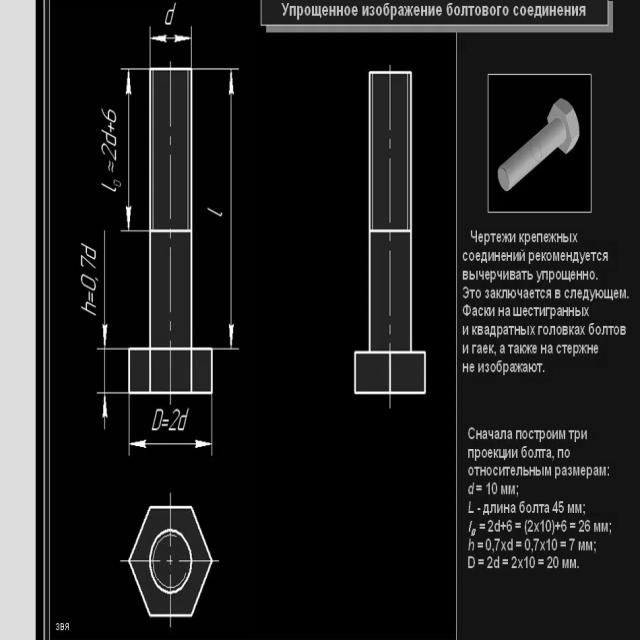marking_line: (227, 72, 235, 347), (123, 71, 134, 229), (101, 227, 112, 350), (131, 440, 211, 449), (150, 33, 193, 43), (100, 394, 109, 430)
numeric: (96, 127, 122, 163), (80, 256, 97, 293), (99, 101, 117, 121), (170, 406, 178, 435)
